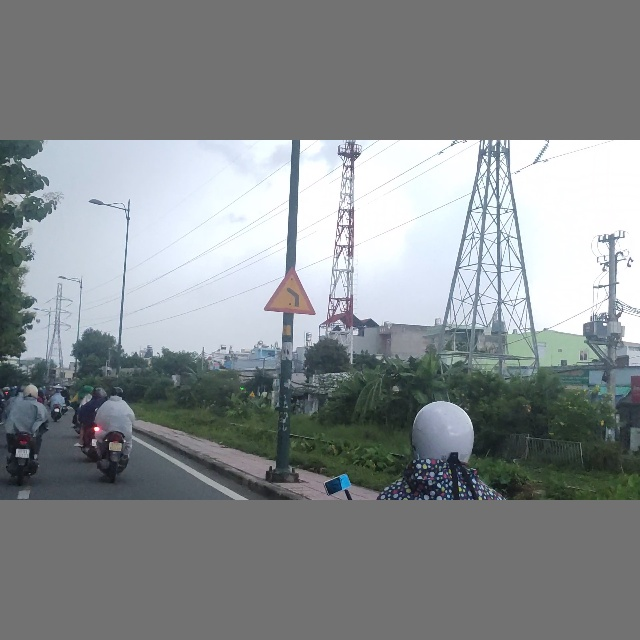W.201a: (264, 268, 316, 315)
